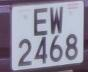2: (15, 35, 35, 70)
4: (31, 36, 49, 67)
6: (47, 34, 64, 66)
8: (63, 31, 81, 64)
E: (30, 5, 51, 38)
W: (48, 4, 67, 36)
